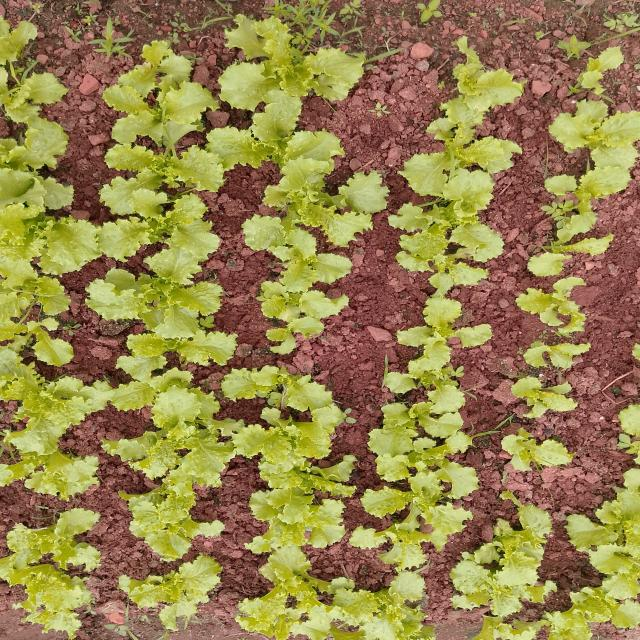Lettuce: (212, 14, 402, 130), (103, 391, 221, 504), (247, 419, 340, 544), (122, 48, 232, 151), (0, 118, 81, 234), (0, 240, 81, 356), (126, 249, 211, 354), (419, 175, 495, 281), (365, 445, 443, 545), (431, 49, 511, 145), (274, 208, 350, 302), (543, 103, 640, 160), (595, 466, 640, 571), (0, 27, 52, 109)
